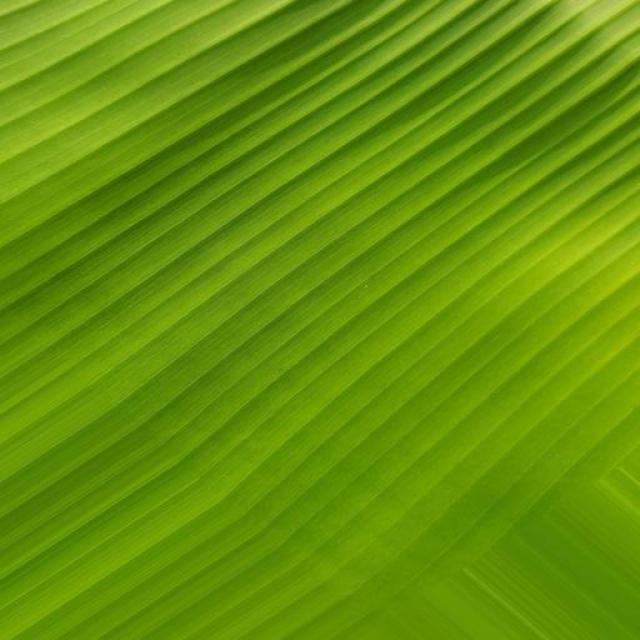Black_leaf_spot: (2, 0, 640, 546)
